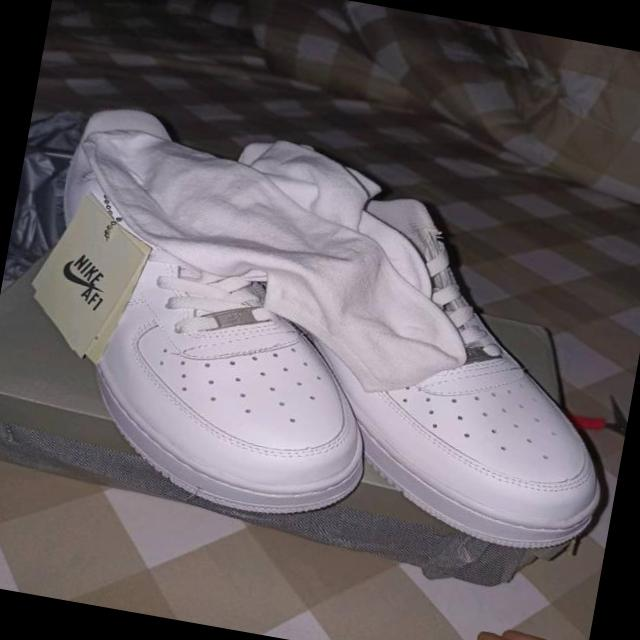nike_fake_airforce: (177, 96, 640, 562), (4, 96, 420, 532)
